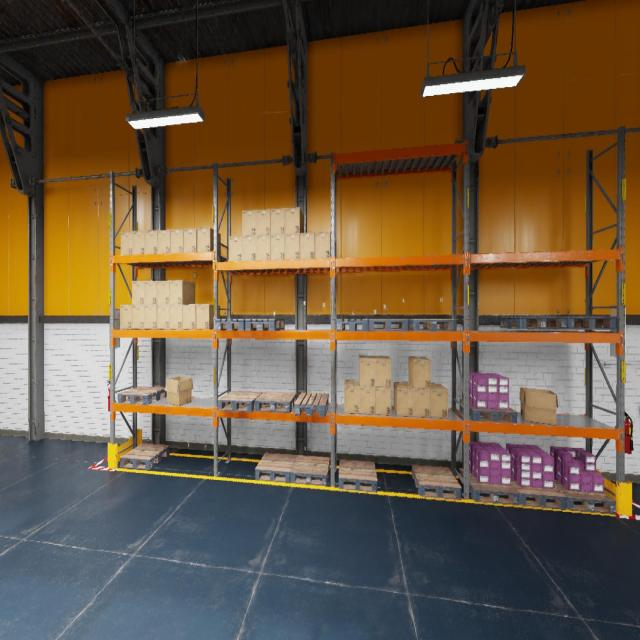box: (520, 387, 558, 425), (165, 376, 193, 405), (409, 383, 430, 417), (394, 382, 414, 416), (409, 356, 430, 388), (197, 227, 220, 255), (196, 304, 220, 329), (431, 383, 448, 418), (170, 280, 194, 304), (374, 356, 391, 387), (344, 381, 359, 414), (285, 208, 304, 234), (359, 356, 375, 386), (376, 387, 392, 415), (360, 386, 375, 414), (300, 233, 315, 259), (285, 233, 300, 259), (316, 232, 330, 258), (271, 234, 285, 260), (270, 208, 284, 234), (256, 209, 270, 235), (242, 210, 256, 236), (183, 228, 197, 253), (256, 235, 270, 260), (242, 236, 256, 261), (182, 304, 195, 329), (229, 236, 242, 261), (144, 305, 157, 329), (170, 229, 183, 253), (170, 304, 182, 329), (157, 304, 169, 329), (120, 304, 132, 329), (157, 280, 169, 305), (144, 281, 157, 304), (132, 305, 144, 329), (158, 229, 170, 253), (145, 230, 157, 254), (132, 281, 144, 304), (132, 231, 144, 254), (121, 231, 132, 255)
pallets: (459, 468, 518, 505), (554, 479, 616, 514), (511, 478, 566, 510), (412, 465, 462, 500), (338, 460, 378, 492), (460, 400, 517, 422), (120, 444, 169, 469), (255, 453, 296, 482), (291, 455, 329, 486), (218, 390, 262, 412), (255, 391, 297, 413), (118, 386, 166, 405), (294, 392, 329, 417), (500, 316, 566, 329), (555, 316, 616, 329), (408, 319, 455, 332), (368, 319, 409, 331), (245, 319, 284, 330), (336, 319, 368, 331), (215, 319, 245, 330)
